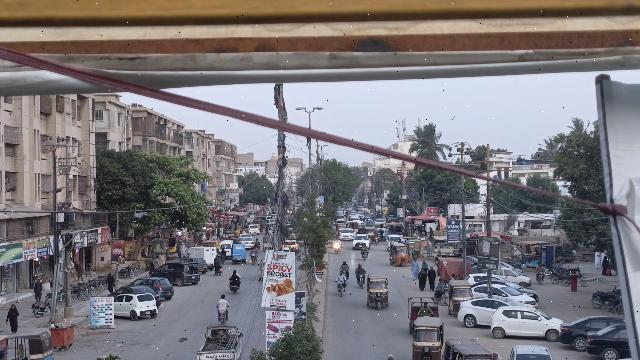Bike: (215, 310, 230, 326), (229, 281, 241, 296), (336, 280, 346, 297), (356, 271, 366, 288)
Car: (489, 303, 563, 341), (559, 314, 620, 351), (456, 295, 511, 328), (585, 321, 625, 359), (115, 293, 158, 324), (153, 261, 203, 287), (136, 276, 177, 302)
Cart: (407, 295, 440, 318)
Person: (5, 302, 23, 332), (416, 266, 427, 292), (426, 265, 437, 289), (411, 257, 420, 281), (216, 294, 230, 308), (419, 302, 433, 315), (229, 268, 241, 281), (337, 269, 346, 280), (356, 263, 364, 272)
Rickshaw: (0, 331, 54, 360), (410, 316, 445, 360), (365, 272, 390, 312), (446, 278, 471, 317)
Suzuki: (196, 324, 242, 360)
Truck: (182, 245, 216, 267)
